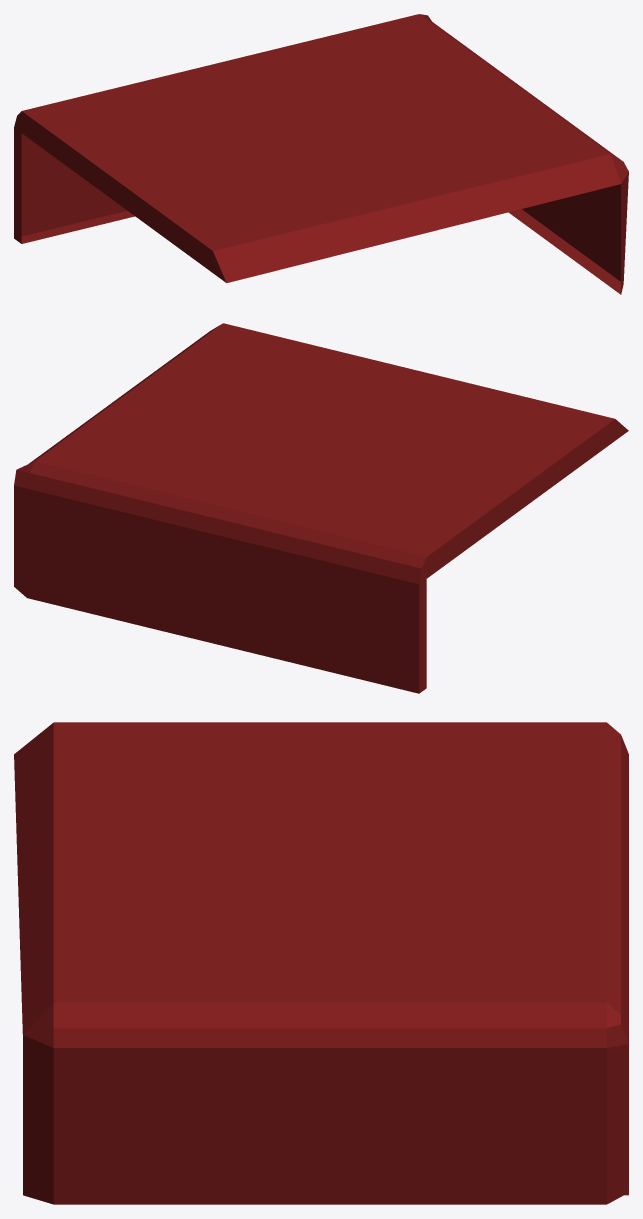
File: deken_nettjes.fbx
3 views of the same model, one above another, from view 1: azimuth 30°, elevation 25°; view 2: azimuth 150°, elevation 25°; view 3: azimuth 270°, elevation 25° (orthographic). The views are drawn at different scales.
Visible parts, largest first — view 1: deken_nettjes; view 2: deken_nettjes; view 3: deken_nettjes.
Boxes of the visible parts, x1,y1,x2,y2 form: deken_nettjes: (14, 14, 628, 294); deken_nettjes: (14, 323, 628, 693); deken_nettjes: (14, 722, 628, 1204).
Bounding box in the file's own units: 1.57 × 0.48 × 1.39.
